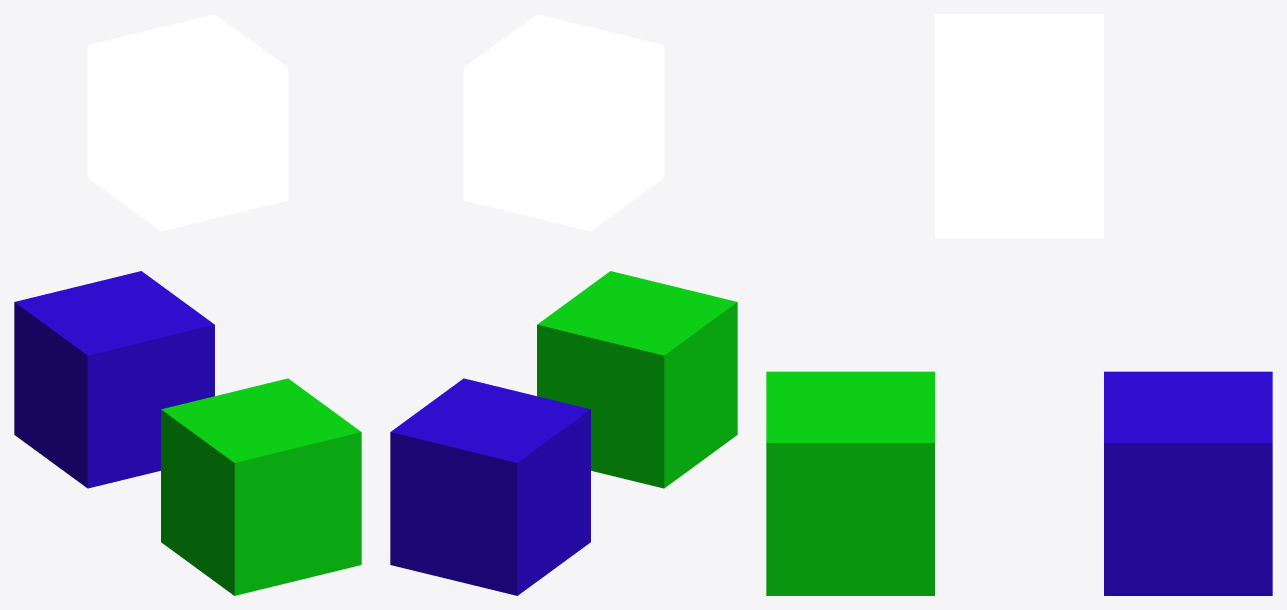
Rendered from colored_cubes.gltf.
3 views of the same model, side by side, from view 1: azimuth 30°, elevation 25°; view 2: azimuth 150°, elevation 25°; view 3: azimuth 270°, elevation 25° (orthographic). The views are drawn at different scales.
Visible parts, largest first — view 1: Cube, Cube.002, Cube.001; view 2: Cube, Cube.001, Cube.002; view 3: Cube.001, Cube.002, Cube.
Boxes of the visible parts, left/top/right/bottom form: Cube: left=87, top=14, right=288, bottom=231; Cube.002: left=161, top=378, right=361, bottom=595; Cube.001: left=14, top=271, right=214, bottom=488; Cube: left=463, top=14, right=664, bottom=231; Cube.001: left=390, top=378, right=590, bottom=595; Cube.002: left=537, top=271, right=737, bottom=488; Cube.001: left=1104, top=371, right=1272, bottom=595; Cube.002: left=766, top=371, right=934, bottom=595; Cube: left=935, top=14, right=1103, bottom=238.
Bounding box in the file's own units: 2 × 6.67 × 6.
